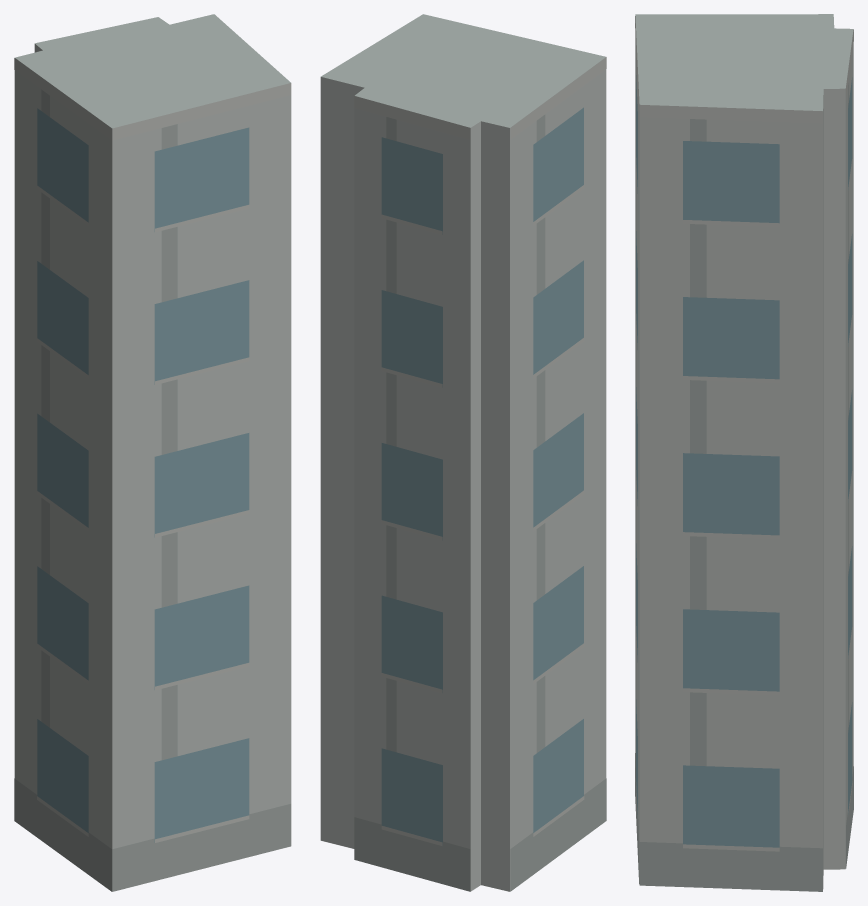
Rendered from survey-upis-32821997.glb.
3 views of the same model, side by side, from view 1: azimuth 30°, elevation 25°; view 2: azimuth 150°, elevation 25°; view 3: azimuth 270°, elevation 25° (orthographic). The views are drawn at different scales.
Visible parts, largest first — view 1: survey-upis-32821997.tmp; view 2: survey-upis-32821997.tmp; view 3: survey-upis-32821997.tmp.
Part boxes in pixels (<box>): survey-upis-32821997.tmp: <box>14,14,291,891</box>; survey-upis-32821997.tmp: <box>320,14,606,891</box>; survey-upis-32821997.tmp: <box>635,14,853,891</box>.
Size of the model in its own units: 4.08 by 15.25 by 3.87.
